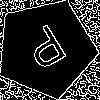P: (21, 23, 75, 79)
